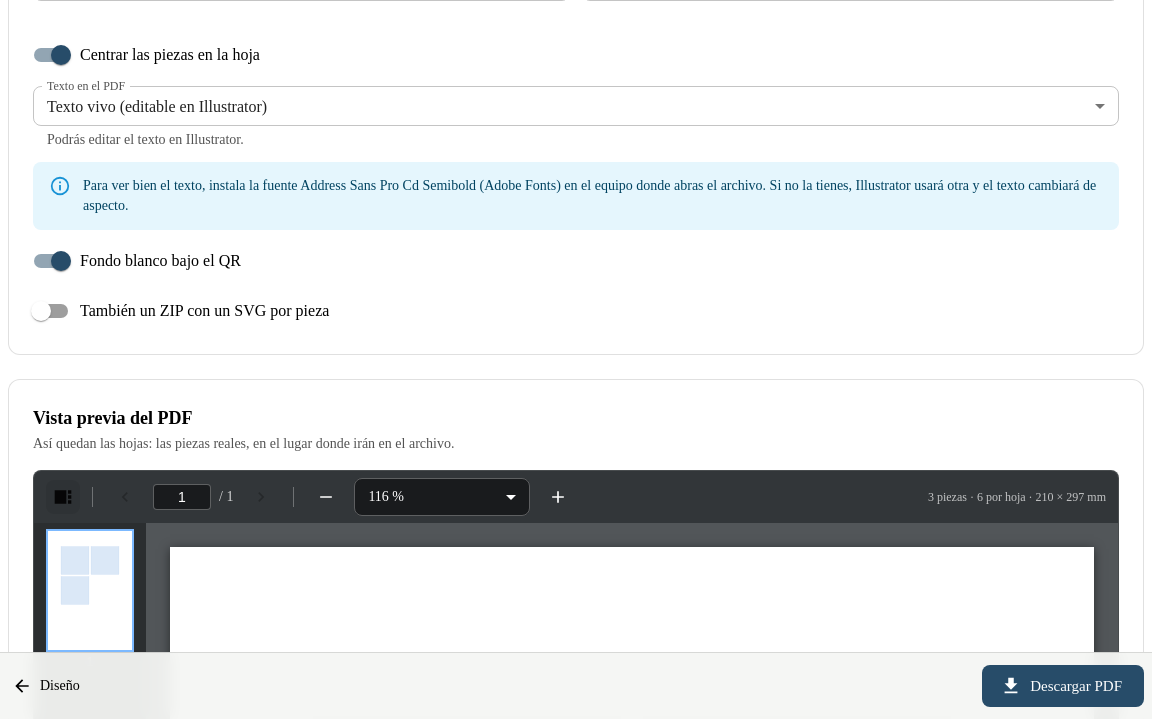
Scenario: paso 3: exportar › el formato ZIP añade la opción de nombre de cada SVG
(page scrolled)
What coordinates should you click on to do the following:
click the switch labelled "También un ZIP con un SVG por pieza"
I would click on:
 (180, 311)
Its box is top-left (31, 301), bottom-right (329, 321).
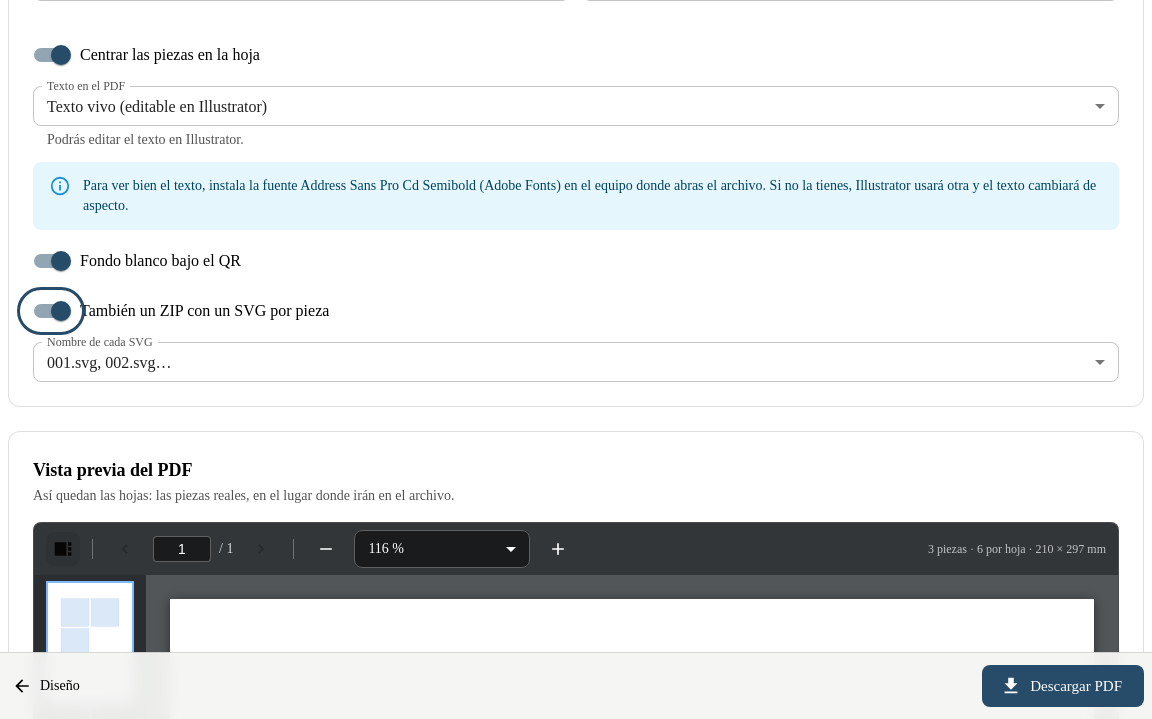
Expected: the dropdown named "Nombre de cada SVG" is shown, top-left (47, 354), bottom-right (172, 370)
